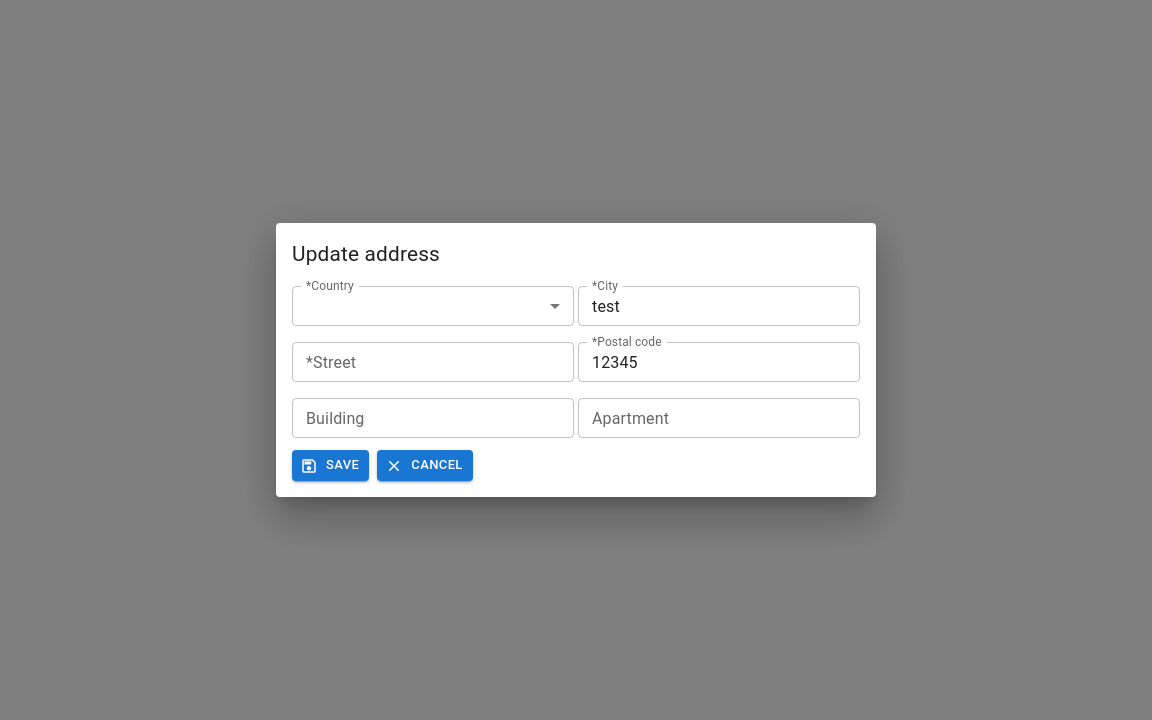
Scenario: AddressModalForm › disable to submit invalid form
Step 1. Replace the text in the field labelled "*City" with "123" → (719, 306), box [578,286,860,326]
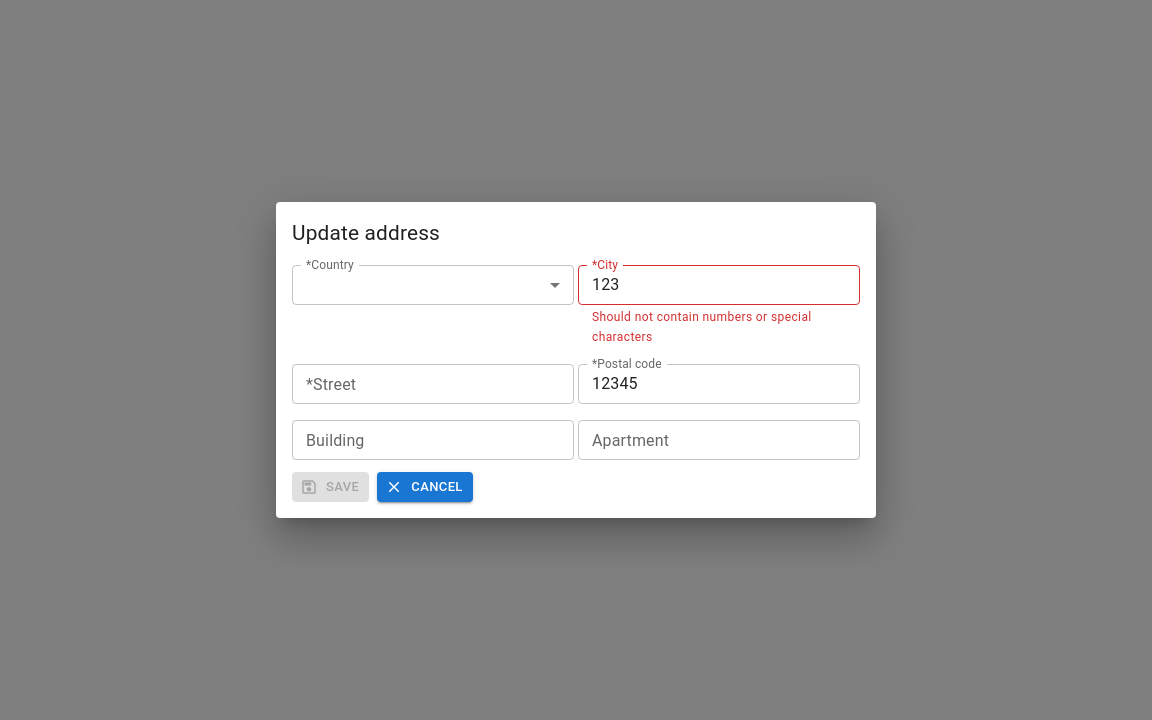
Now the button "Save" is disabled, box [292,472,369,502]
